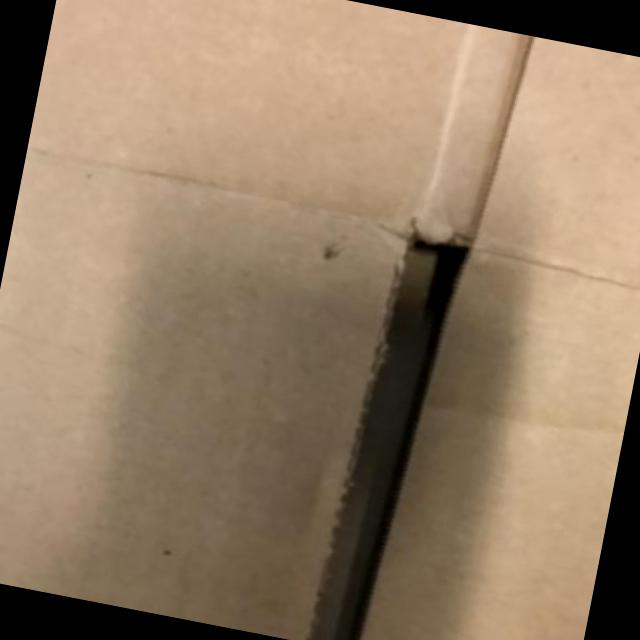cardboard: (0, 0, 639, 639), (0, 157, 405, 639), (364, 251, 639, 639), (29, 0, 467, 224), (477, 37, 639, 285), (418, 24, 534, 244)
metal: (311, 243, 465, 639)
